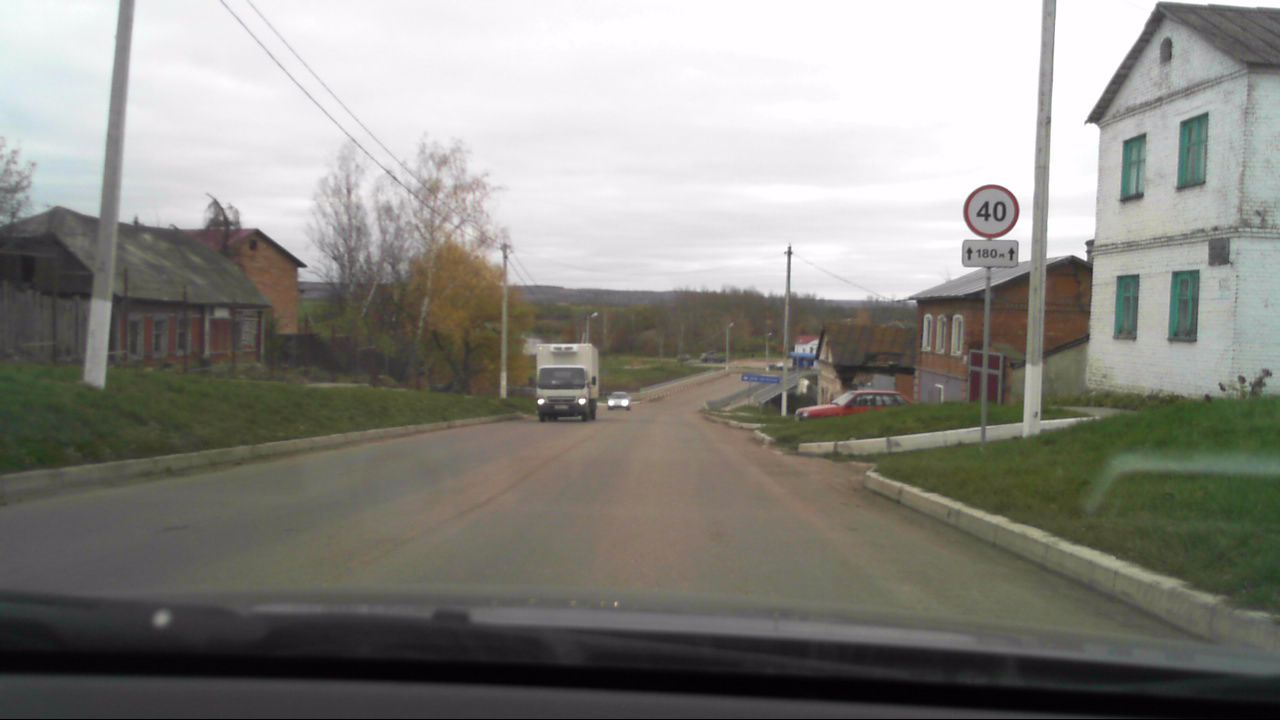speed_warning_40: (963, 186, 1020, 238)
